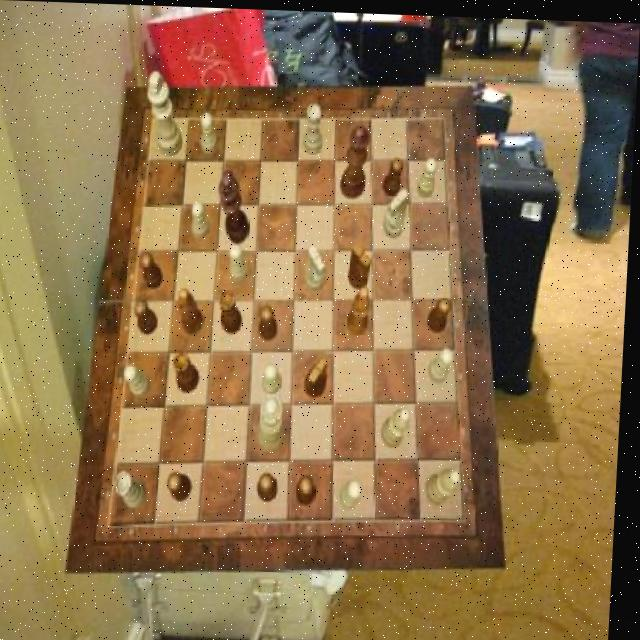bishop: (181, 287, 209, 334), (350, 284, 374, 332)
black-bishop: (218, 168, 254, 243)
black-king: (350, 240, 374, 287), (309, 354, 333, 396)
black-knight: (430, 293, 455, 330), (141, 250, 166, 287), (137, 298, 163, 333), (385, 155, 407, 193), (172, 472, 198, 502), (262, 304, 282, 340), (300, 472, 321, 504), (263, 471, 284, 500)
black-pawn: (341, 122, 371, 197)
black-queen: (177, 350, 205, 393), (221, 288, 247, 333)
black-rook: (431, 464, 466, 502), (386, 406, 415, 447)
white-bishop: (146, 70, 187, 156)
white-king: (386, 186, 411, 235), (307, 242, 330, 288)
white-knight: (127, 363, 155, 397), (433, 344, 458, 381), (232, 242, 253, 280), (192, 200, 213, 238), (202, 111, 221, 153), (420, 156, 439, 195), (345, 475, 368, 507), (266, 362, 286, 393)
white-pawn: (261, 391, 291, 450)
white-queen: (119, 469, 153, 507), (305, 101, 327, 153)
